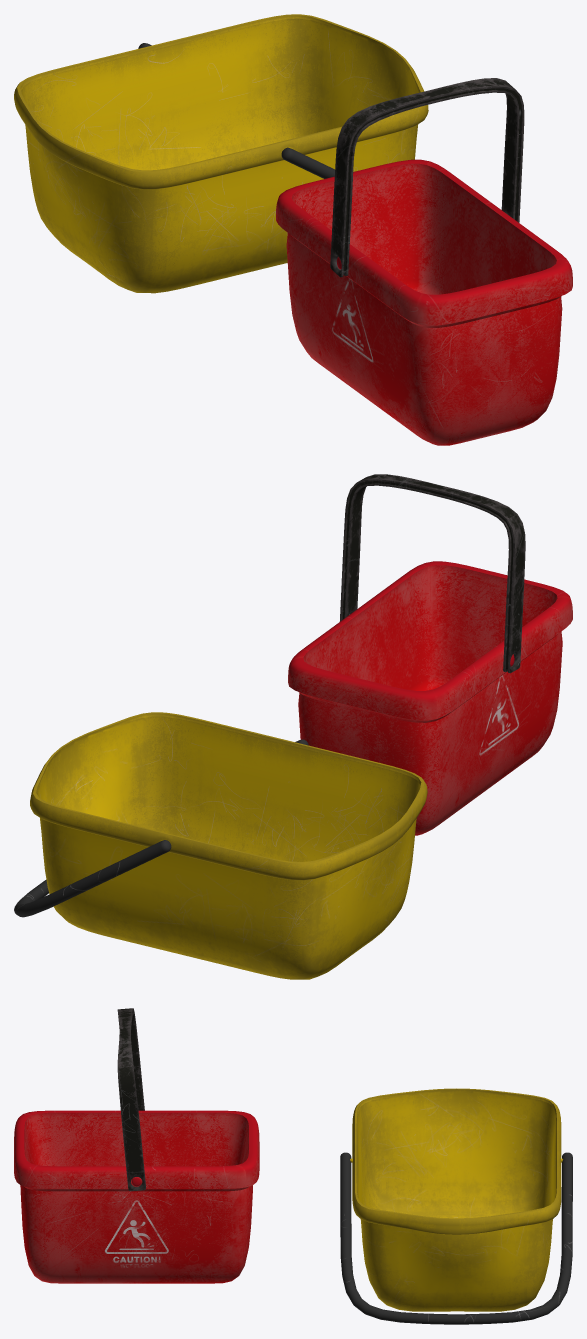
The model's file is pair_of_buckets.glb.
3 views of the same model, one above another, from view 1: azimuth 30°, elevation 25°; view 2: azimuth 150°, elevation 25°; view 3: azimuth 270°, elevation 25° (orthographic). The views are drawn at different scales.
Parts seen in each view (by area): view 1: SM_large_bucket_4, SM_bucket_38, SM_bucket_handle_37, SM_large_bucket_handle_3; view 2: SM_large_bucket_4, SM_bucket_38, SM_bucket_handle_37, SM_large_bucket_handle_3; view 3: SM_large_bucket_4, SM_bucket_38, SM_large_bucket_handle_3, SM_bucket_handle_37.
Boxes of the visible parts, box(x1,y1,x2,y2) form: SM_large_bucket_4: box(14, 14, 428, 293); SM_bucket_38: box(276, 159, 572, 445); SM_bucket_handle_37: box(330, 78, 524, 277); SM_large_bucket_handle_3: box(138, 43, 334, 178); SM_large_bucket_4: box(30, 712, 427, 979); SM_bucket_38: box(288, 561, 572, 835); SM_bucket_handle_37: box(339, 474, 525, 673); SM_large_bucket_handle_3: box(14, 739, 308, 917); SM_large_bucket_4: box(350, 1088, 562, 1311); SM_bucket_38: box(14, 1110, 259, 1283); SM_large_bucket_handle_3: box(340, 1152, 572, 1324); SM_bucket_handle_37: box(117, 1008, 145, 1191).
Bounding box in the file's own units: 0.8251 × 0.6919 × 1.47.
2 materials, 2 textured.
